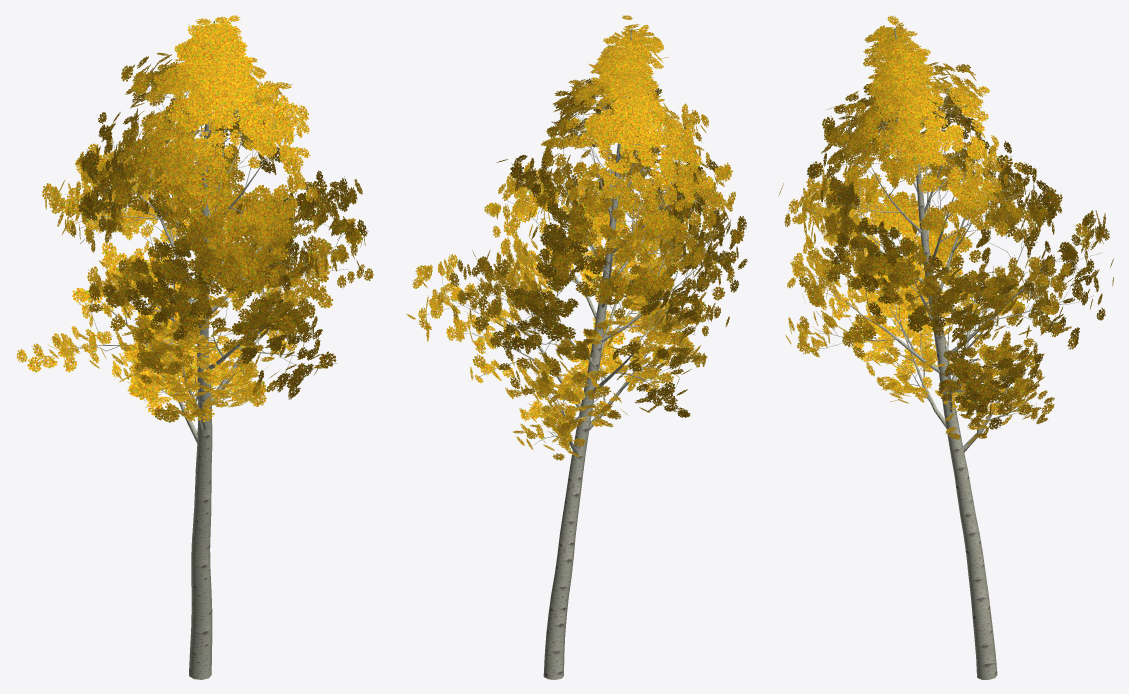
The model's file is tree-aspen-gold.glb.
3 views of the same model, side by side, from view 1: azimuth 30°, elevation 25°; view 2: azimuth 150°, elevation 25°; view 3: azimuth 270°, elevation 25° (orthographic). The views are drawn at different scales.
Visible parts, largest first — view 1: leaves, bark; view 2: leaves, bark; view 3: leaves, bark.
Boxes of the visible parts, left/top/right/bottom form: leaves: left=16, top=15, right=373, bottom=423; bark: left=44, top=21, right=348, bottom=679; leaves: left=406, top=15, right=747, bottom=460; bark: left=420, top=29, right=727, bottom=679; leaves: left=778, top=15, right=1113, bottom=444; bark: left=798, top=28, right=1102, bottom=679.
Bounding box in the file's own units: 7.86 × 15.97 × 7.68.
2 materials, 2 textured.
